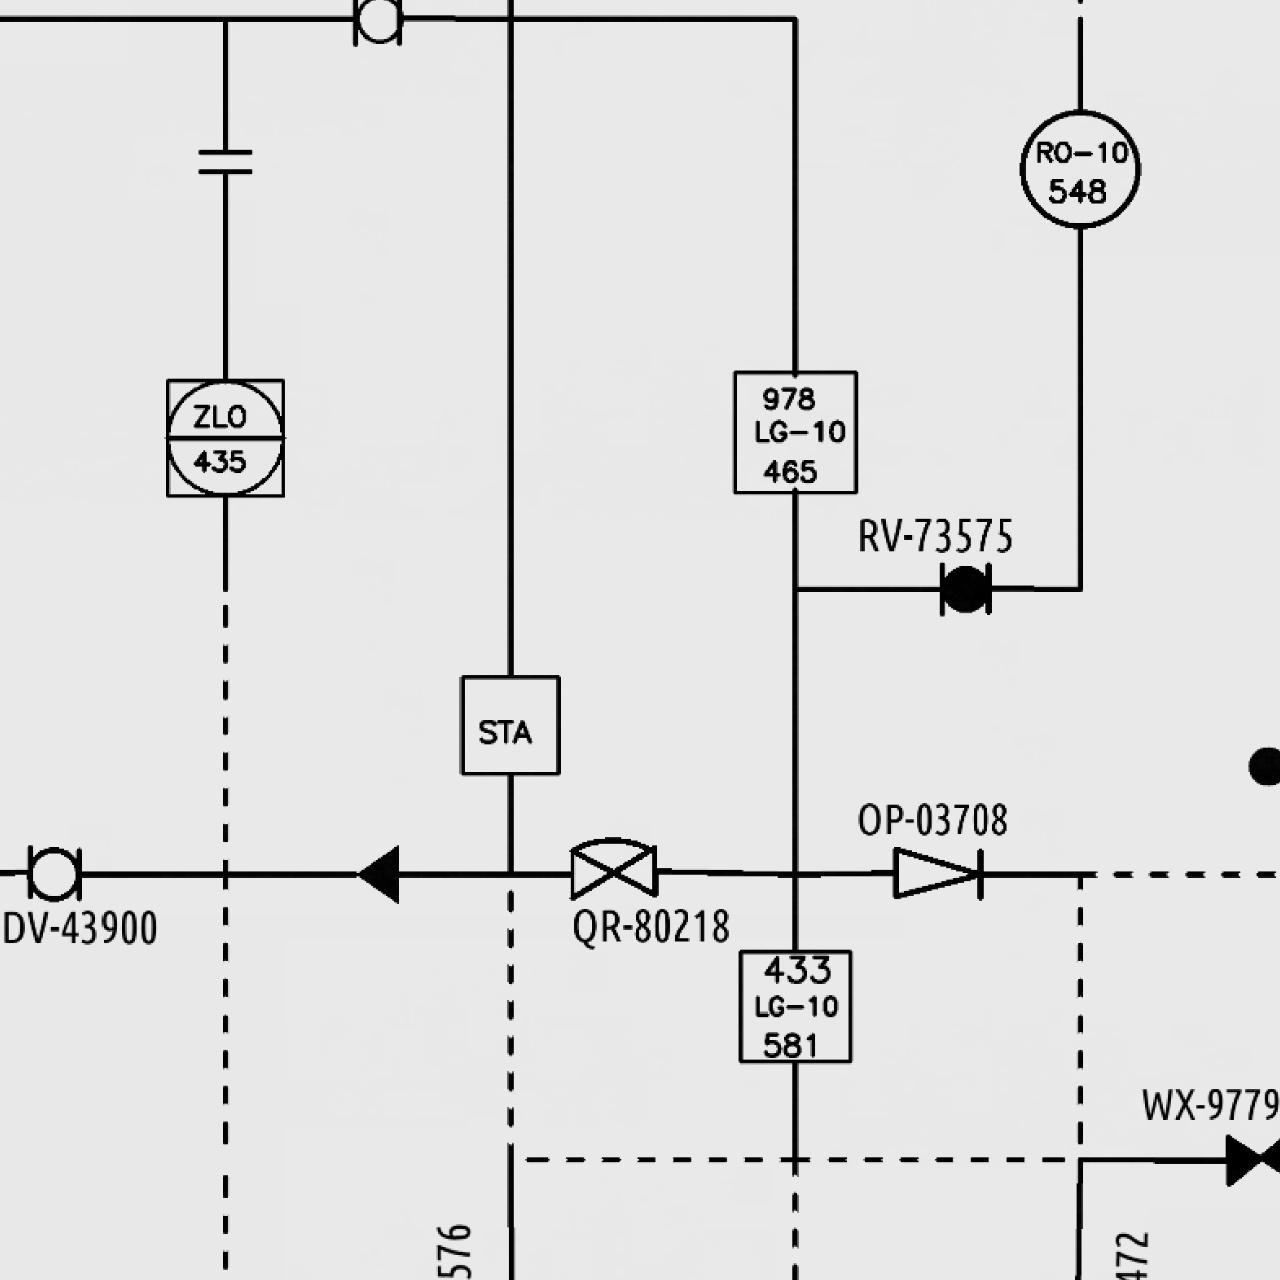Control-Panel: (1015, 104, 1144, 232)
